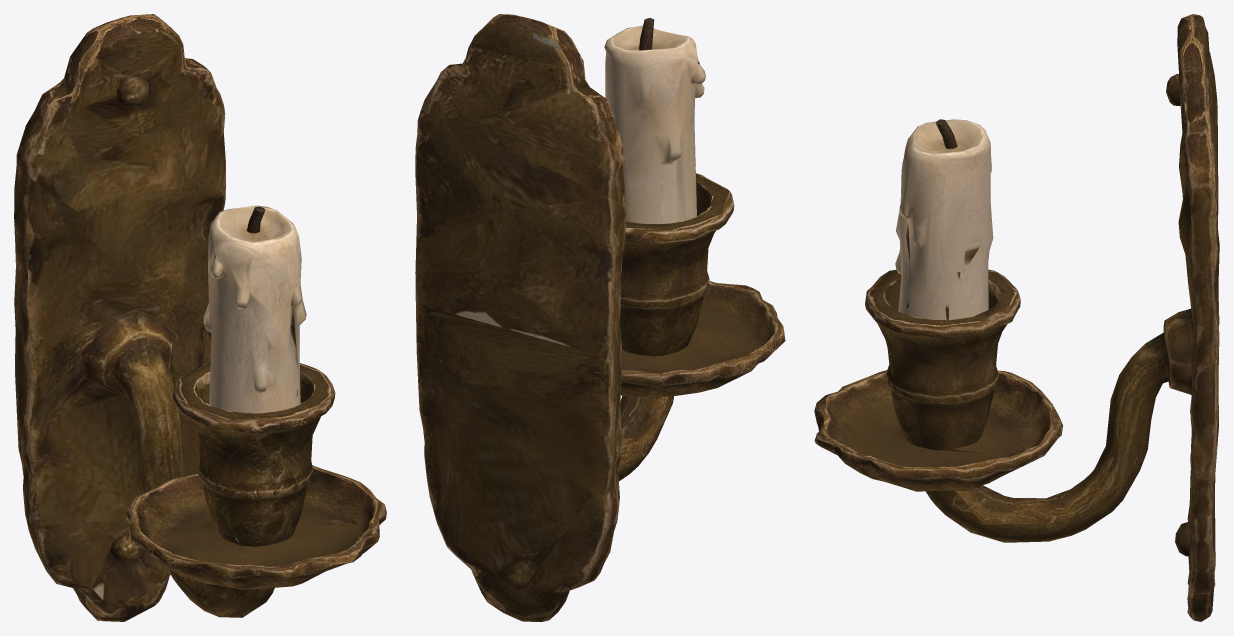
The model's file is k_sconce.glb.
The picture shows the model from 3 angles, left to right: view 1: azimuth 30°, elevation 25°; view 2: azimuth 150°, elevation 25°; view 3: azimuth 270°, elevation 25°; orthographic projection. The views are drawn at different scales.
Visible parts, largest first — view 1: k_sconce; view 2: k_sconce; view 3: k_sconce.
Boxes of the visible parts, x1=… form: k_sconce: x1=14, y1=14, x2=386, y2=621; k_sconce: x1=415, y1=14, x2=785, y2=621; k_sconce: x1=814, y1=14, x2=1219, y2=621.
Size of the model in its own units: 0.1473 by 0.38 by 0.2354.
1 material, 1 textured.
